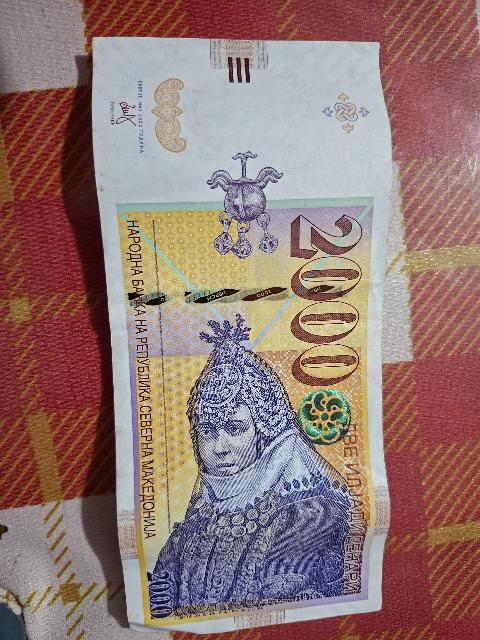2000_note: (86, 39, 392, 636)
